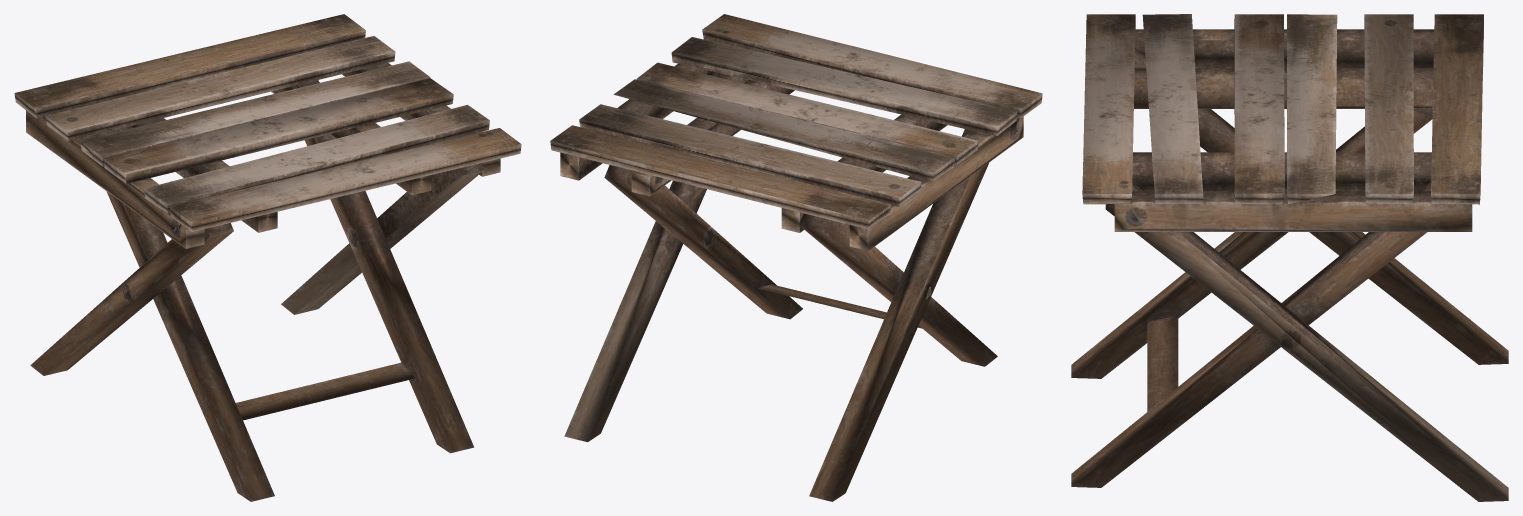
The model's file is plinth-lod.glb.
3 renders of one model, left to right at view 1: azimuth 30°, elevation 25°; view 2: azimuth 150°, elevation 25°; view 3: azimuth 270°, elevation 25°, orthographic. The views are drawn at different scales.
Parts seen in each view (by area): view 1: folding_wooden_stool; view 2: folding_wooden_stool; view 3: folding_wooden_stool.
Boxes of the visible parts, box(x1,y1,x2,y2) form: folding_wooden_stool: box(14, 14, 521, 501); folding_wooden_stool: box(550, 14, 1042, 501); folding_wooden_stool: box(1071, 14, 1508, 501).
Bounding box in the file's own units: 0.5264 × 0.4399 × 0.5401.
1 material, 1 textured.
